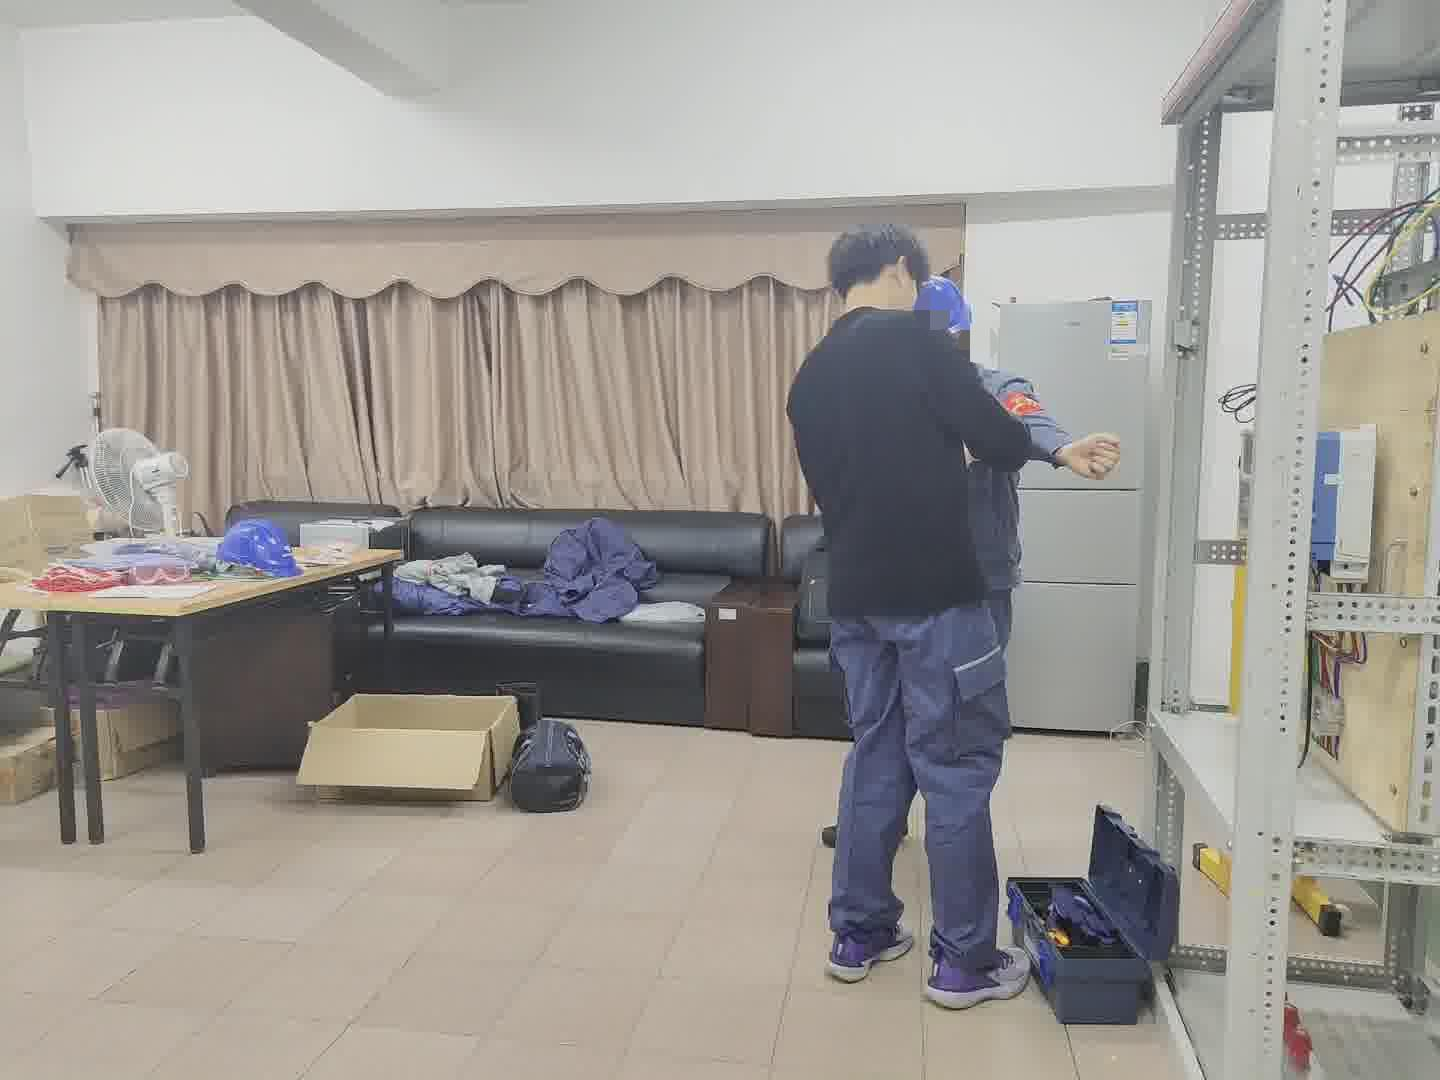halt: (922, 280, 977, 352)
noear: (876, 259, 915, 299)
unhalt: (831, 223, 931, 309)
